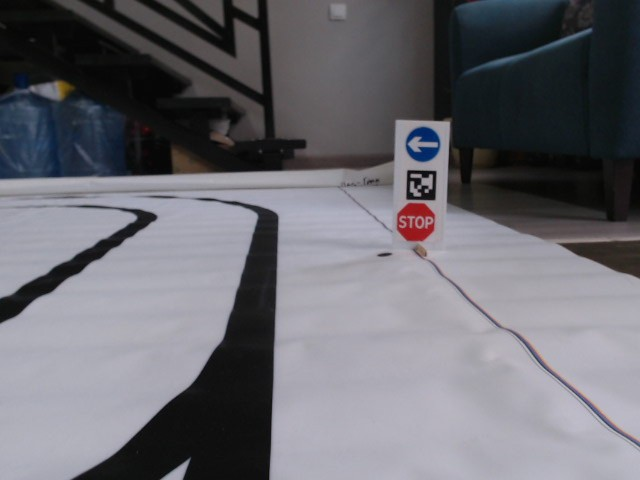Stop: (395, 201, 437, 243)
